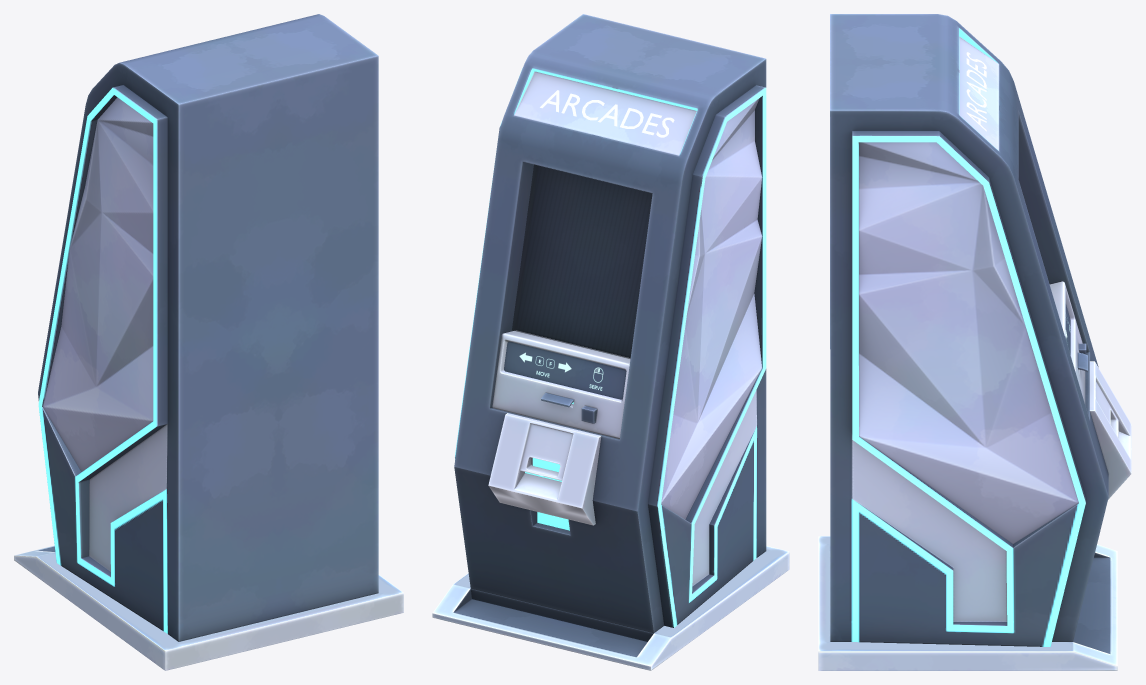
Rendered from obj_arcade02.gltf.
The picture shows the model from 3 angles, left to right: view 1: azimuth 30°, elevation 25°; view 2: azimuth 150°, elevation 25°; view 3: azimuth 270°, elevation 25°; orthographic projection. The views are drawn at different scales.
Parts seen in each view (by area): view 1: obj_arcade02; view 2: obj_arcade02; view 3: obj_arcade02.
Part boxes in pixels (<box>): obj_arcade02: <box>14,14,403,670</box>; obj_arcade02: <box>432,14,789,670</box>; obj_arcade02: <box>818,14,1131,670</box>.
Size of what is drawn, in the model's own units: 1.24 by 2.76 by 1.42.
Materials: 4 (3 with a texture image).
